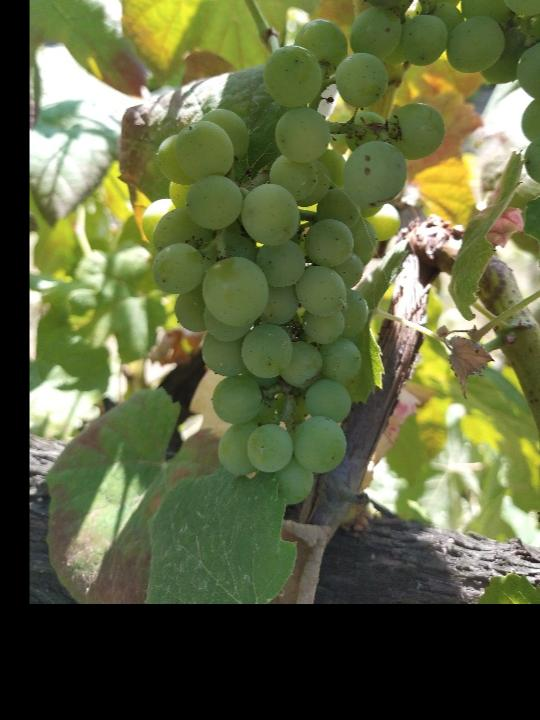grape: (114, 16, 446, 509)
